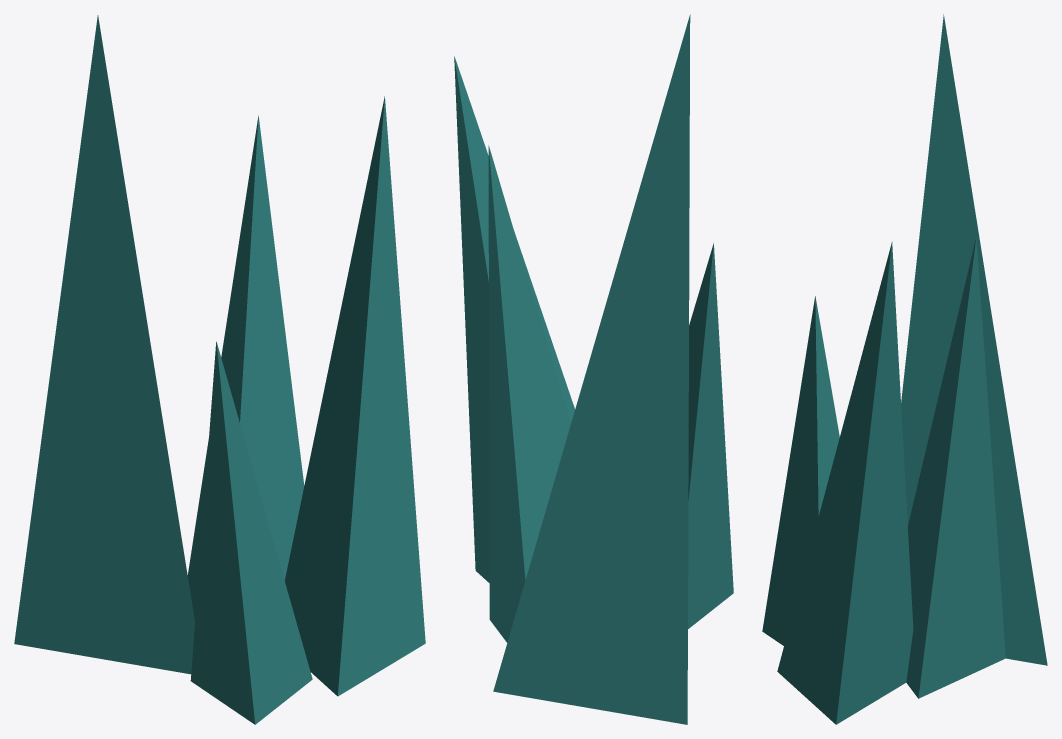
The model's file is Grass_1_Blue.fbx.
The picture shows the model from 3 angles, left to right: view 1: azimuth 30°, elevation 25°; view 2: azimuth 150°, elevation 25°; view 3: azimuth 270°, elevation 25°; orthographic projection. The views are drawn at different scales.
Visible parts, largest first — view 1: Grass_1_Blue; view 2: Grass_1_Blue; view 3: Grass_1_Blue.
Part boxes in pixels (<box>): Grass_1_Blue: <box>14,15,425,724</box>; Grass_1_Blue: <box>454,14,733,724</box>; Grass_1_Blue: <box>762,14,1047,724</box>.
Bounding box in the file's own units: 27.2 × 54.81 × 23.94.
